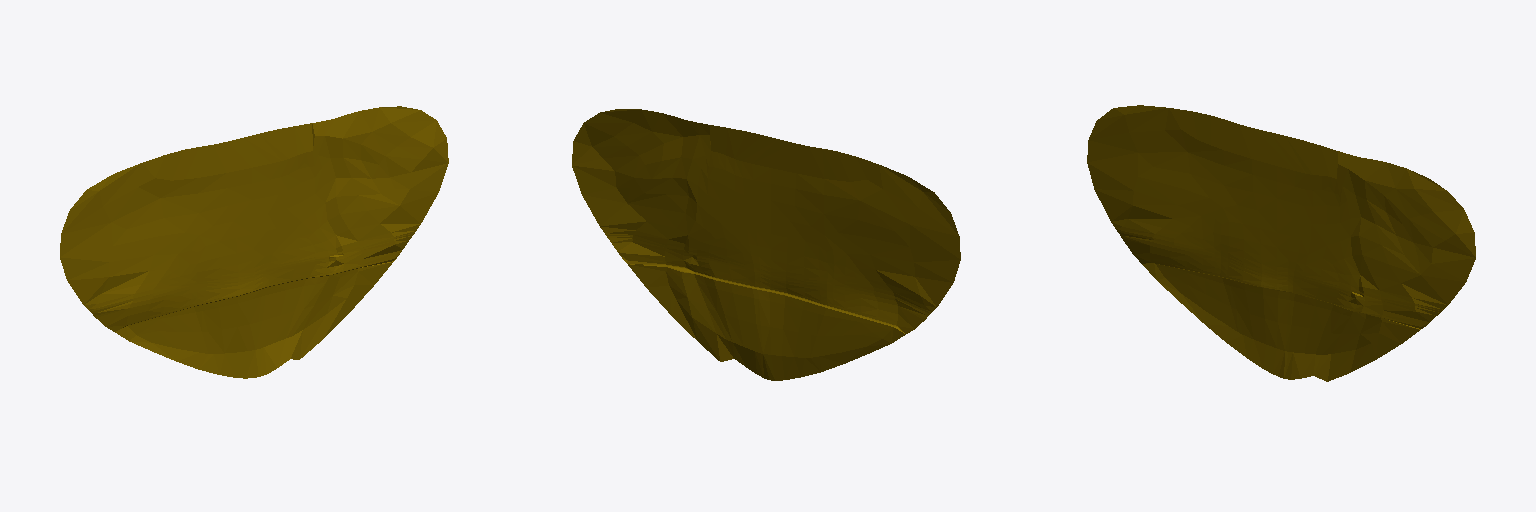
Rendered from collarBottomLayer.obj.
3 views of the same model, side by side, from view 1: azimuth 30°, elevation 25°; view 2: azimuth 150°, elevation 25°; view 3: azimuth 330°, elevation 25° (orthographic).
Visible parts, largest first — view 1: _Body_shirt_internal_element001; view 2: _Body_shirt_internal_element001; view 3: _Body_shirt_internal_element001.
Boxes of the visible parts, x1,y1,x2,y2 form: _Body_shirt_internal_element001: [60, 106, 448, 378]; _Body_shirt_internal_element001: [572, 109, 960, 380]; _Body_shirt_internal_element001: [1087, 105, 1475, 381].
Bounding box in the file's own units: 1.83 × 1.1 × 0.0443.